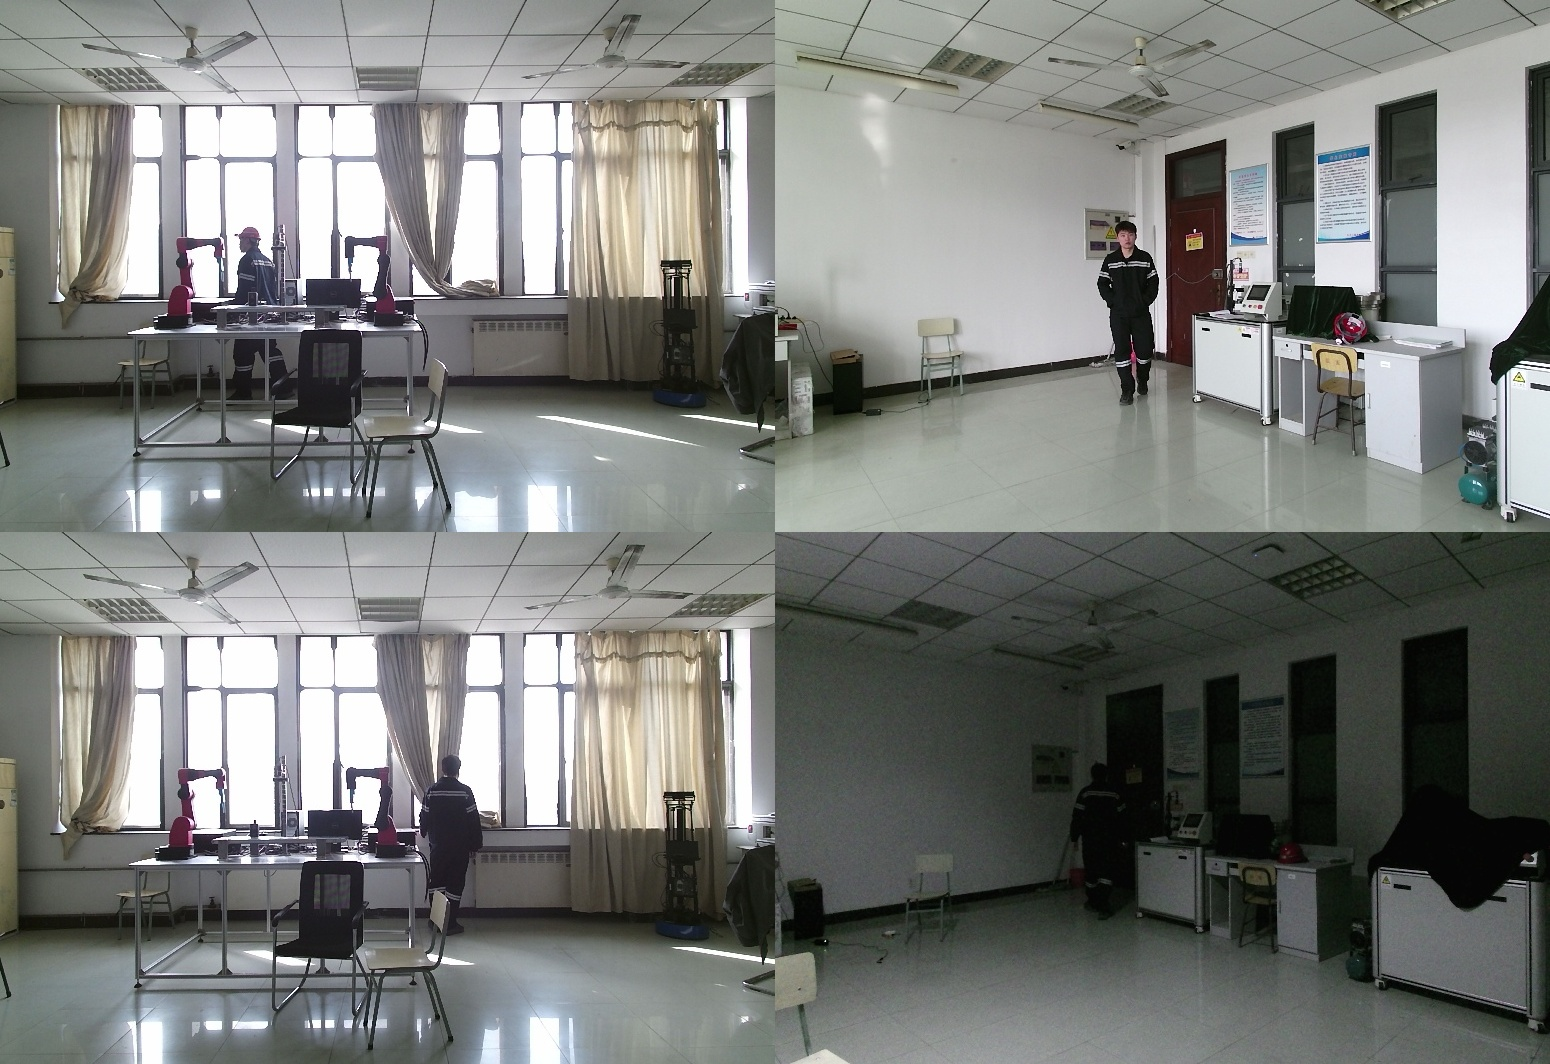person: (1096, 224, 1162, 410), (227, 226, 294, 402), (418, 754, 483, 918), (1070, 765, 1134, 926)
